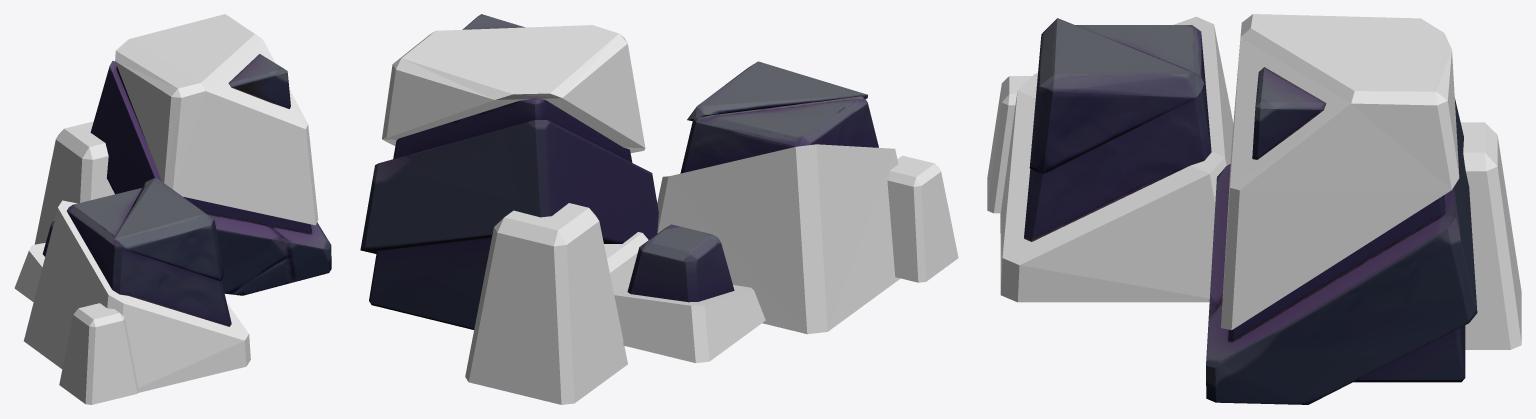
File: Ore_A.fbx
3 renders of one model, left to right at view 1: azimuth 30°, elevation 25°; view 2: azimuth 150°, elevation 25°; view 3: azimuth 270°, elevation 25°, orthographic. The views are drawn at different scales.
Visible parts, largest first — view 1: Ore_A; view 2: Ore_A; view 3: Ore_A.
Part boxes in pixels (x1,y1,x2,y2): Ore_A: (14,14,331,404); Ore_A: (360,14,958,404); Ore_A: (987,14,1521,404).
Bounding box in the file's own units: 0.8706 × 0.5667 × 0.8757.
